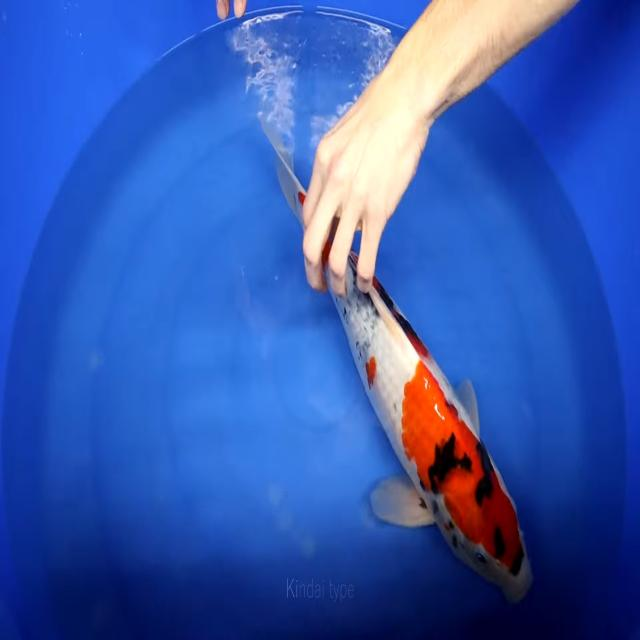Showa: (257, 109, 534, 604)
